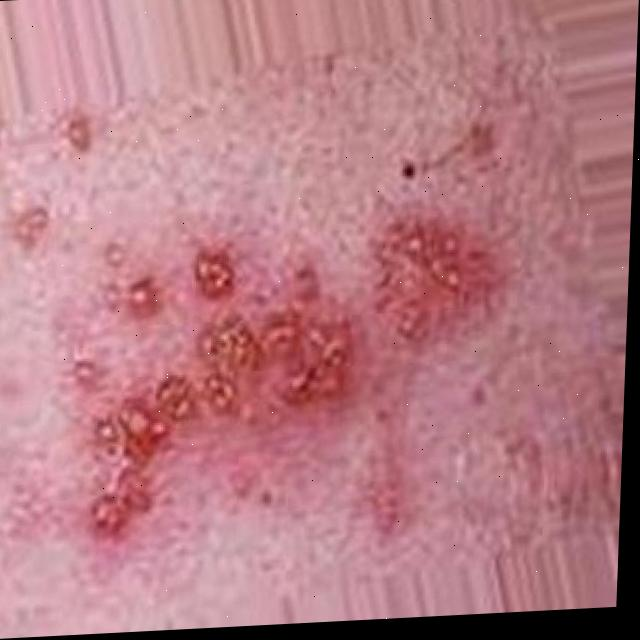Shingles: (68, 242, 355, 535), (377, 231, 496, 337), (18, 204, 54, 244), (68, 116, 96, 156)
